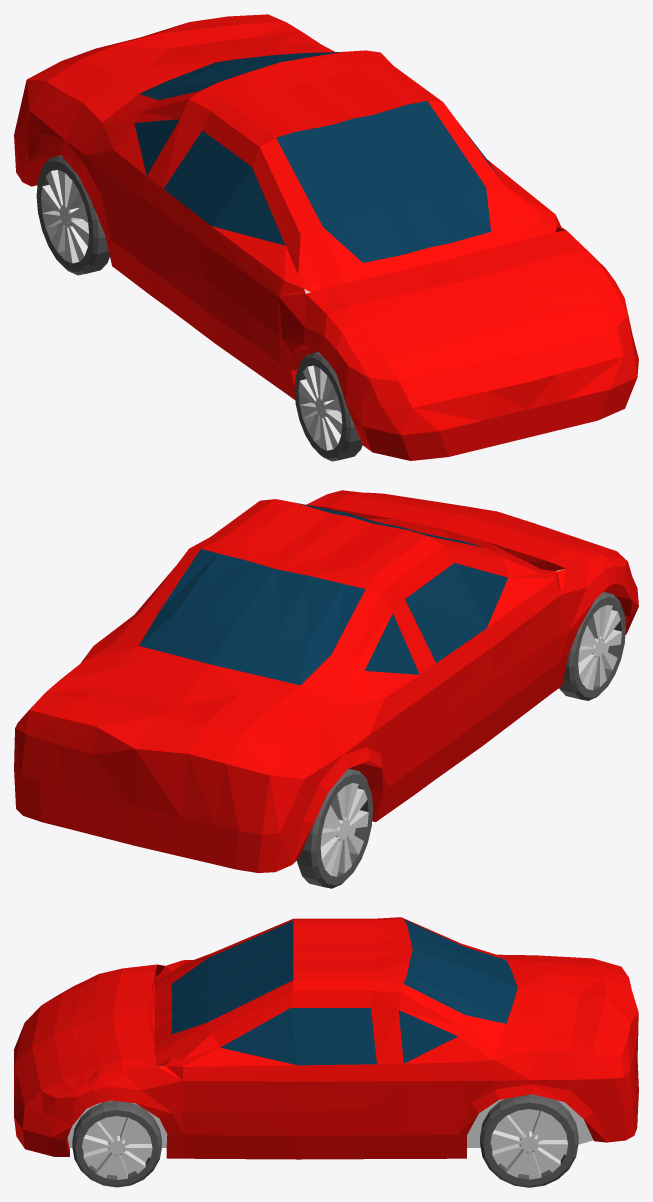
File: carfinal.glb
The picture shows the model from 3 angles, top to bottom: view 1: azimuth 30°, elevation 25°; view 2: azimuth 150°, elevation 25°; view 3: azimuth 270°, elevation 25°; orthographic projection. The views are drawn at different scales.
Visible parts, largest first — view 1: polySurface26, polySurface26.001, transform2.002, transform2.001; view 2: polySurface26, polySurface26.001, transform2.002, transform2.001; view 3: polySurface26, polySurface26.001, transform2.002, transform2.001, Cube, Cube.001.
Part boxes in pixels (left/top/right/bottom): polySurface26: left=14, top=14, right=638, bottom=460; polySurface26.001: left=134, top=51, right=498, bottom=262; transform2.002: left=36, top=155, right=109, bottom=275; transform2.001: left=294, top=352, right=362, bottom=461; polySurface26: left=14, top=490, right=638, bottom=872; polySurface26.001: left=139, top=503, right=507, bottom=685; transform2.002: left=296, top=768, right=373, bottom=888; transform2.001: left=559, top=591, right=625, bottom=700; polySurface26: left=14, top=917, right=638, bottom=1159; polySurface26.001: left=171, top=919, right=517, bottom=1065; transform2.002: left=480, top=1094, right=578, bottom=1187; transform2.001: left=72, top=1101, right=161, bottom=1187; Cube: left=67, top=1100, right=593, bottom=1147; Cube.001: left=69, top=1066, right=586, bottom=1145.
Size of the model in its own units: 1.21 by 0.9078 by 2.79.
